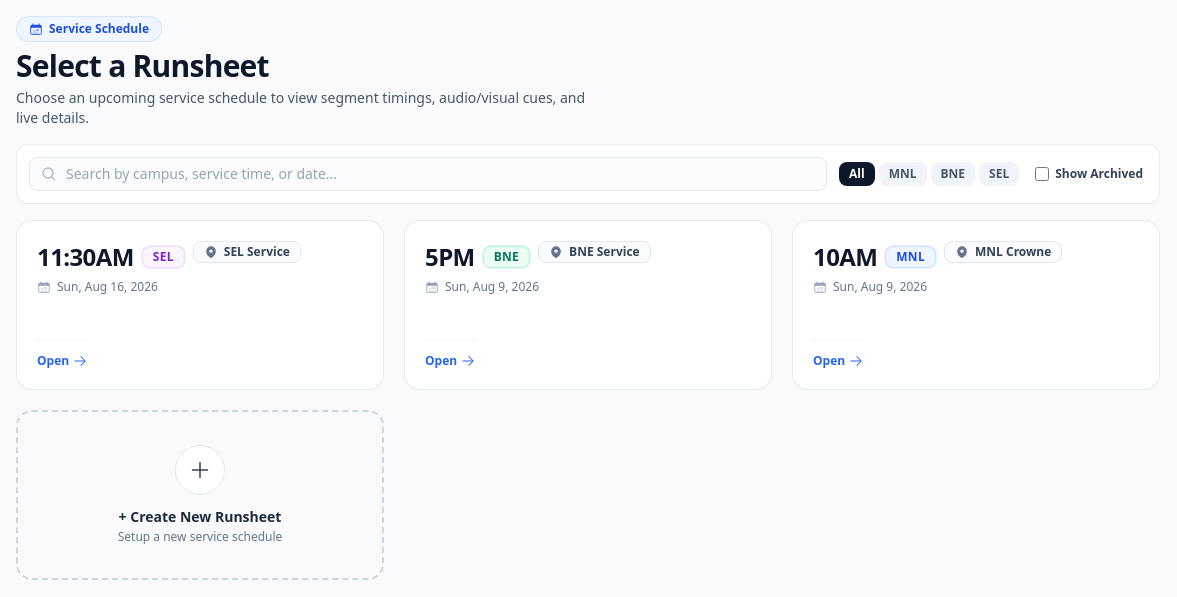
Scenario: RunsheetLandingView › filters runsheet cards by campus switcher
Click the button "MNL" at [903, 174], box [879,162,927,186]
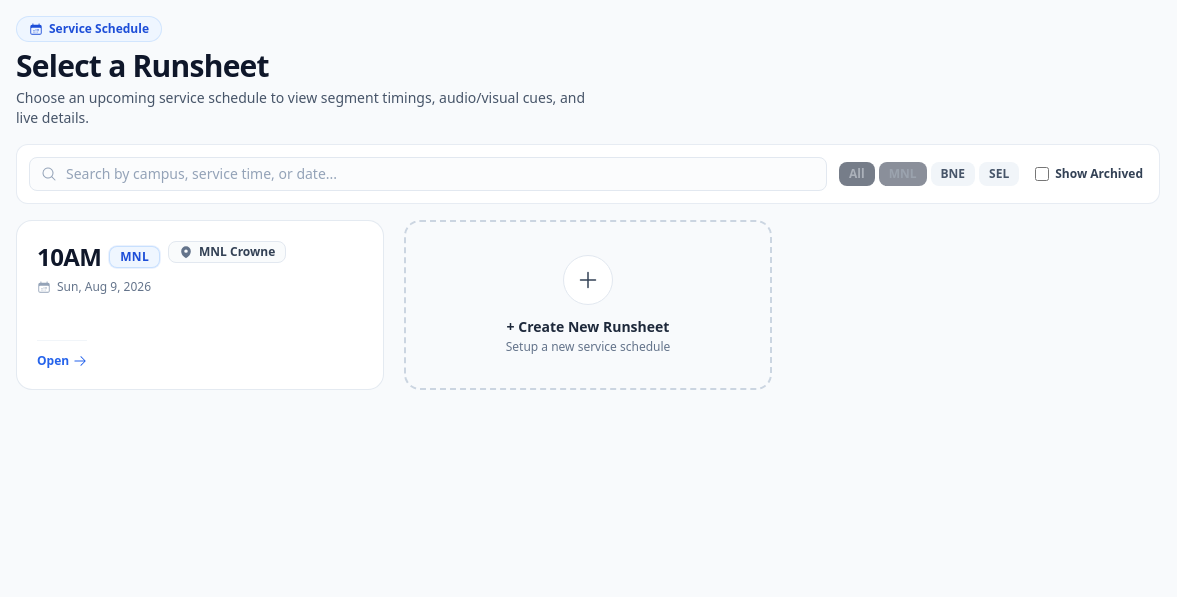
Expected: the button with test id "runsheet-card-101" is shown, [16,220,384,390]
Expected: the button with test id "runsheet-card-102" is gone
Expected: the button with test id "runsheet-card-103" is gone
